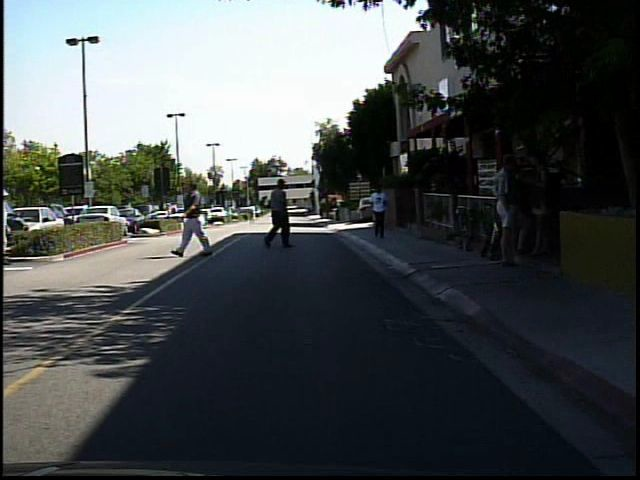person: (492, 146, 532, 269), (522, 149, 554, 261), (263, 173, 301, 251), (178, 173, 212, 259), (364, 179, 394, 242), (3, 183, 21, 268), (165, 197, 181, 229), (245, 201, 261, 226)
